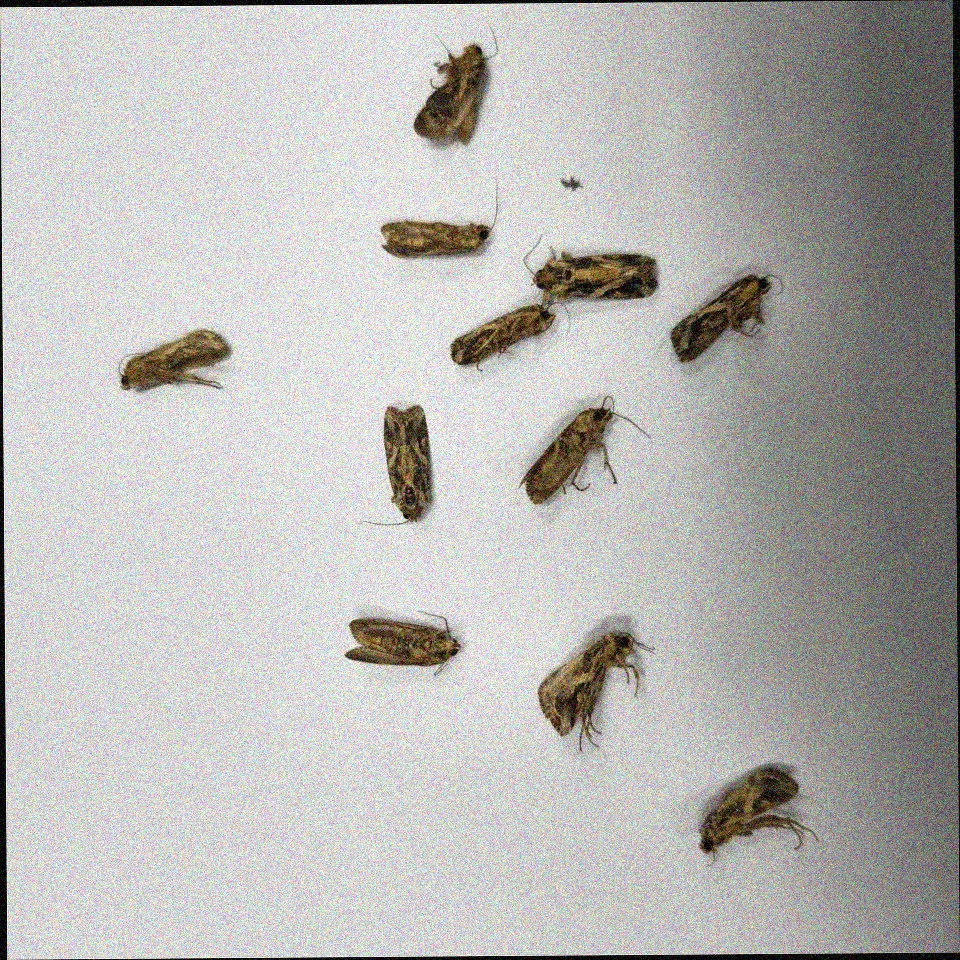Spodoptera litura: (537, 630, 656, 752), (519, 395, 652, 504), (698, 767, 821, 867), (412, 24, 499, 147), (669, 274, 784, 363), (523, 232, 660, 306), (381, 177, 498, 260), (358, 403, 433, 526), (449, 301, 571, 371), (344, 609, 462, 677), (117, 329, 231, 391)
